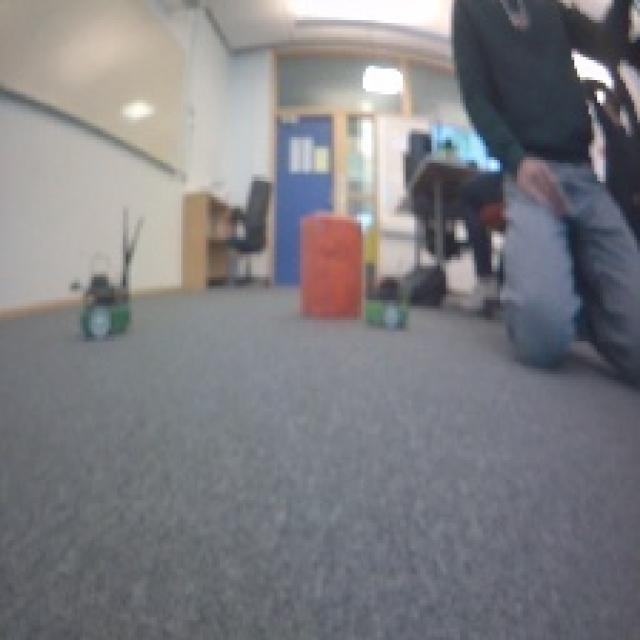robot: (76, 272, 137, 339), (362, 275, 413, 331)
target: (297, 209, 363, 317)
